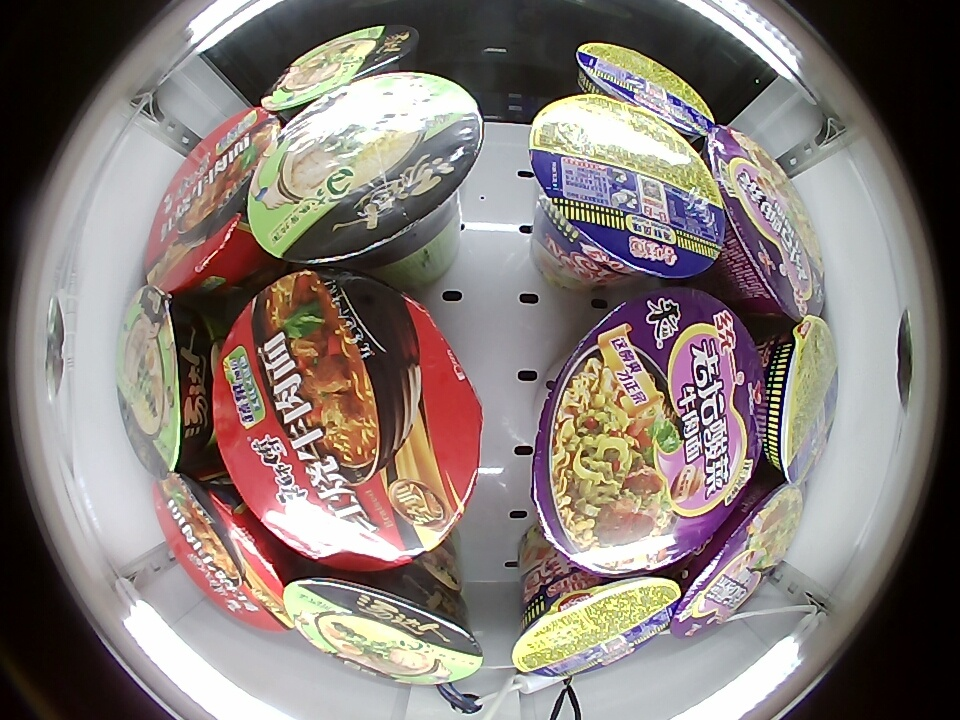heweidao: (529, 93, 726, 280), (512, 568, 681, 681), (576, 41, 713, 140), (760, 316, 840, 485)
hongshaoniurou: (213, 270, 484, 571), (145, 104, 282, 294), (154, 470, 293, 633)
laotansuancai: (530, 288, 767, 578), (706, 123, 825, 323), (668, 478, 804, 640)
tangdaren: (249, 73, 482, 272), (283, 568, 483, 686), (117, 287, 217, 477), (263, 24, 420, 124)
